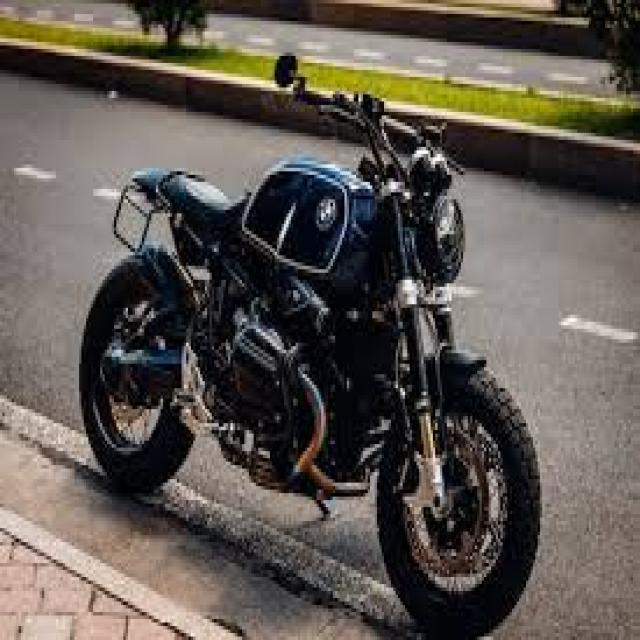Bike: (77, 52, 543, 640)
